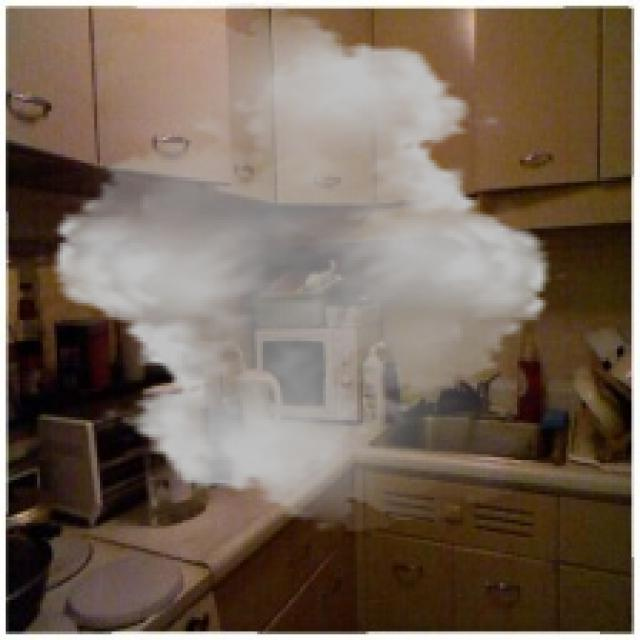smoke: (31, 3, 572, 531)
